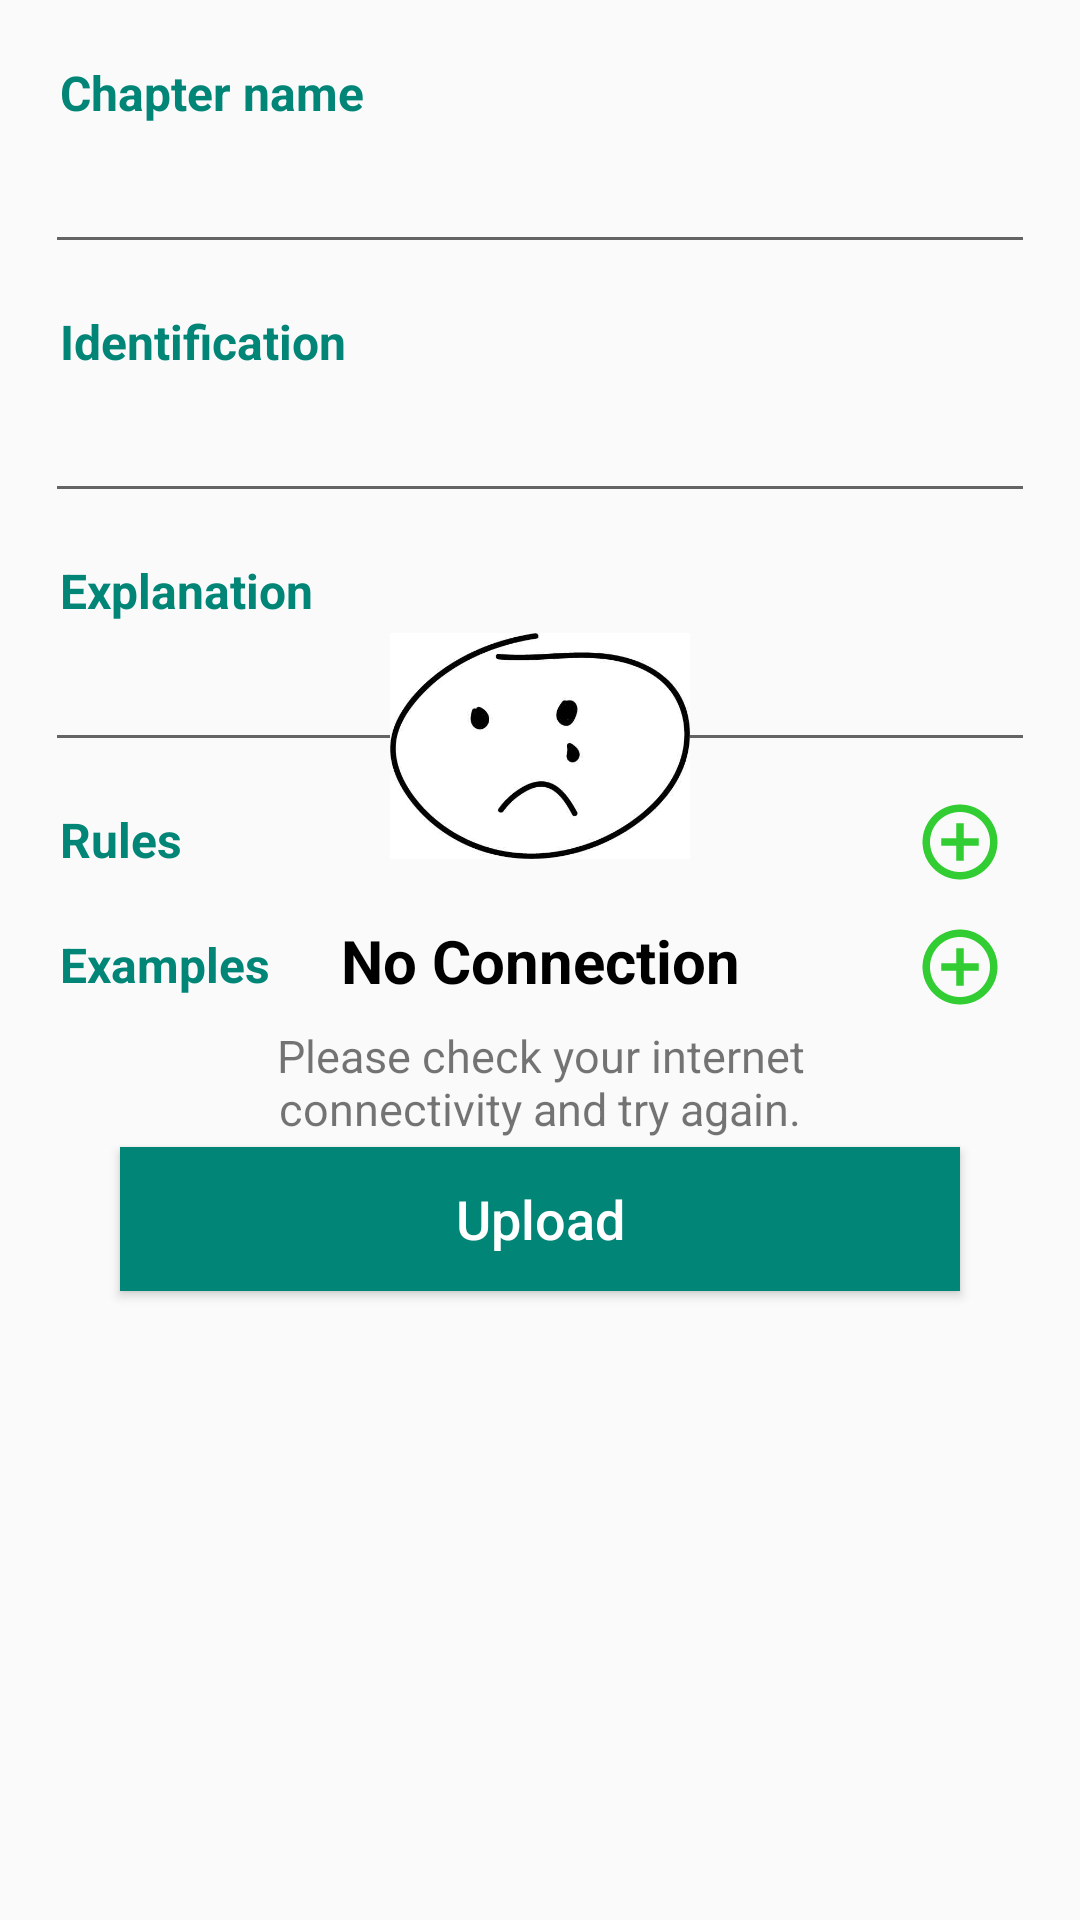

Icons on this 1080×1920 Android screen, each with its box as (x1, y1, x2, y2):
add circle: (922, 804, 998, 880), (922, 929, 998, 1005)
